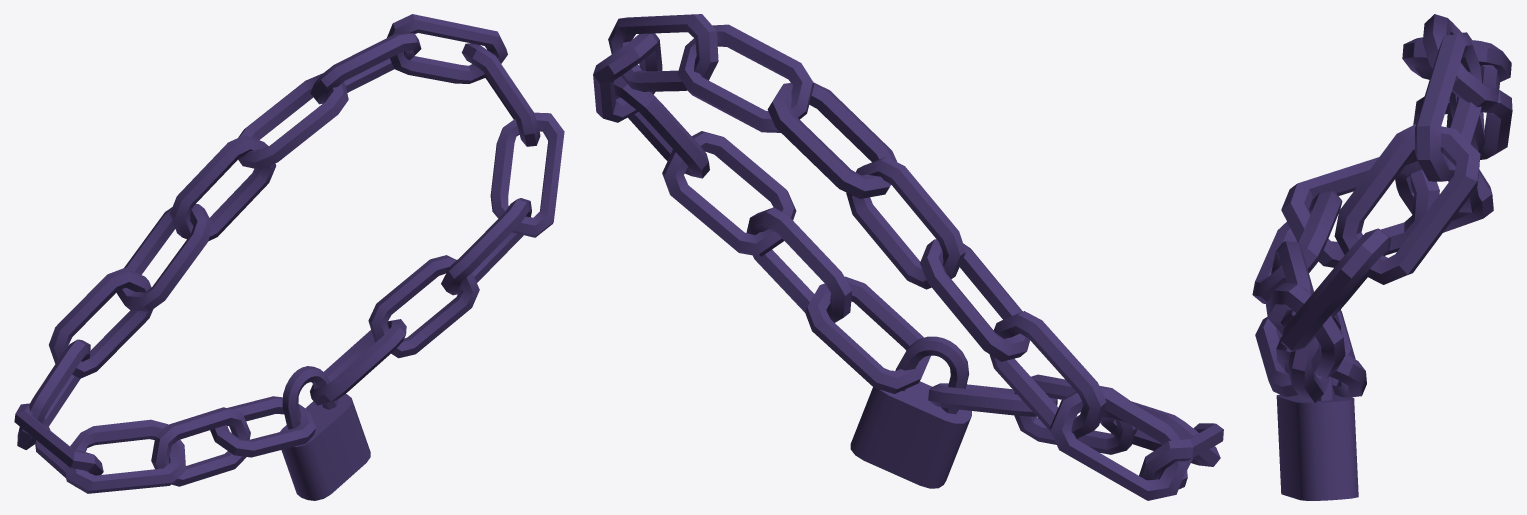
File: SM_Lock_03.fbx
3 renders of one model, left to right at view 1: azimuth 30°, elevation 25°; view 2: azimuth 150°, elevation 25°; view 3: azimuth 270°, elevation 25°, orthographic. The views are drawn at different scales.
Parts seen in each view (by area): view 1: SM_lock03; view 2: SM_lock03; view 3: SM_lock03.
Part boxes in pixels (x1,y1,x2,y2): SM_lock03: [14, 14, 564, 500]; SM_lock03: [593, 14, 1223, 500]; SM_lock03: [1252, 14, 1512, 500].
Size of the model in its own units: 1.83 by 1.34 by 0.5571.
